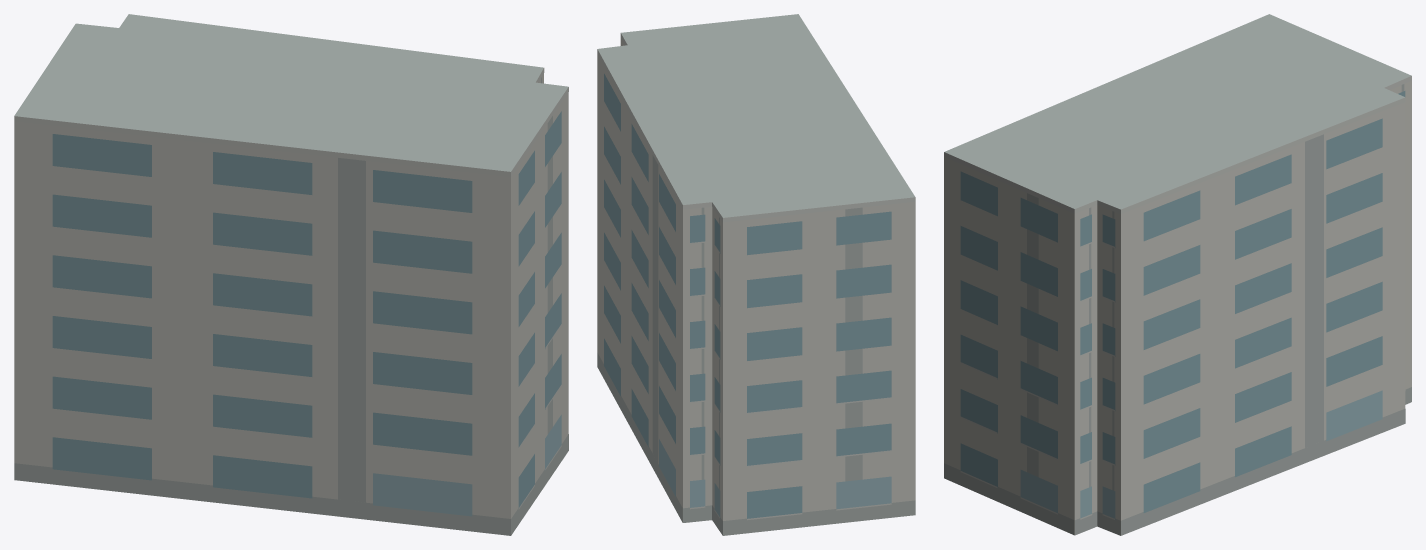
The model's file is survey-upis-32813540.glb.
The picture shows the model from 3 angles, left to right: view 1: azimuth 30°, elevation 25°; view 2: azimuth 150°, elevation 25°; view 3: azimuth 270°, elevation 25°; orthographic projection. The views are drawn at different scales.
Parts seen in each view (by area): view 1: survey-upis-32813540.tmp; view 2: survey-upis-32813540.tmp; view 3: survey-upis-32813540.tmp.
Boxes of the visible parts, box(x1,y1,x2,y2) form: survey-upis-32813540.tmp: box(14, 14, 568, 535); survey-upis-32813540.tmp: box(597, 14, 915, 535); survey-upis-32813540.tmp: box(944, 14, 1411, 535).
Size of the model in its own units: 21.47 by 16.7 by 21.7.
